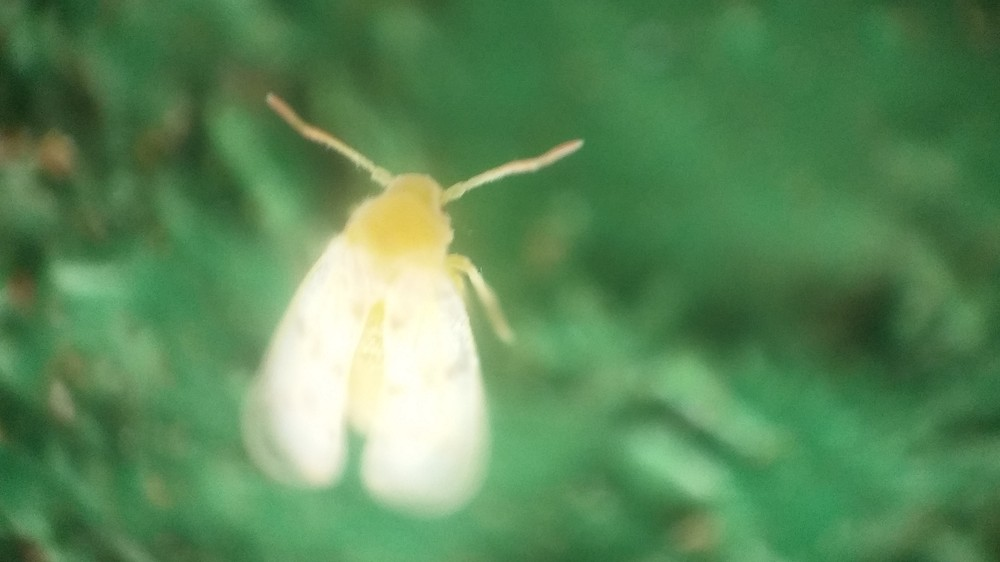Mosca Blanca: (207, 81, 598, 523)
